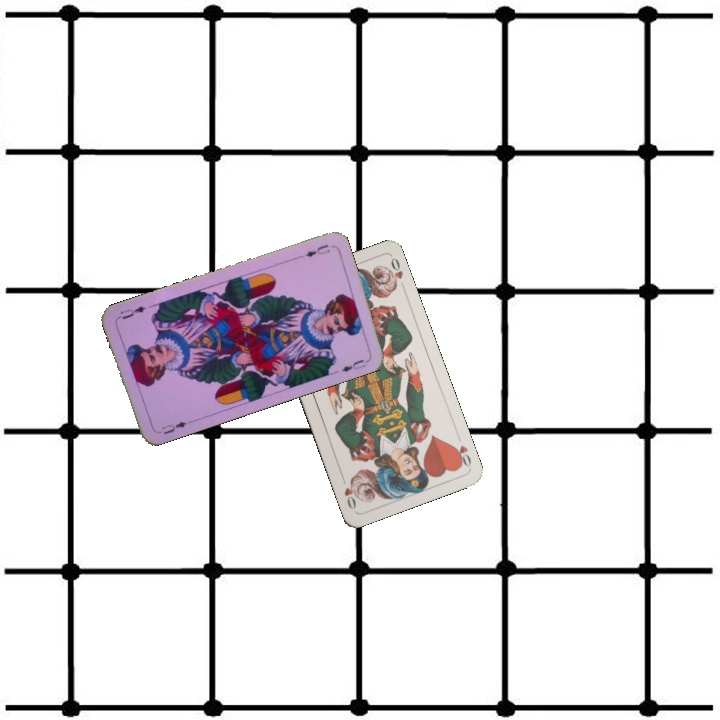EU: (294, 240, 332, 261), (158, 417, 194, 437)
HO: (449, 430, 474, 470)
